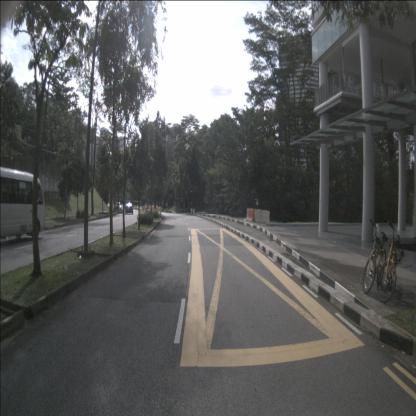barrier: (254, 209, 270, 224), (246, 207, 255, 222)
